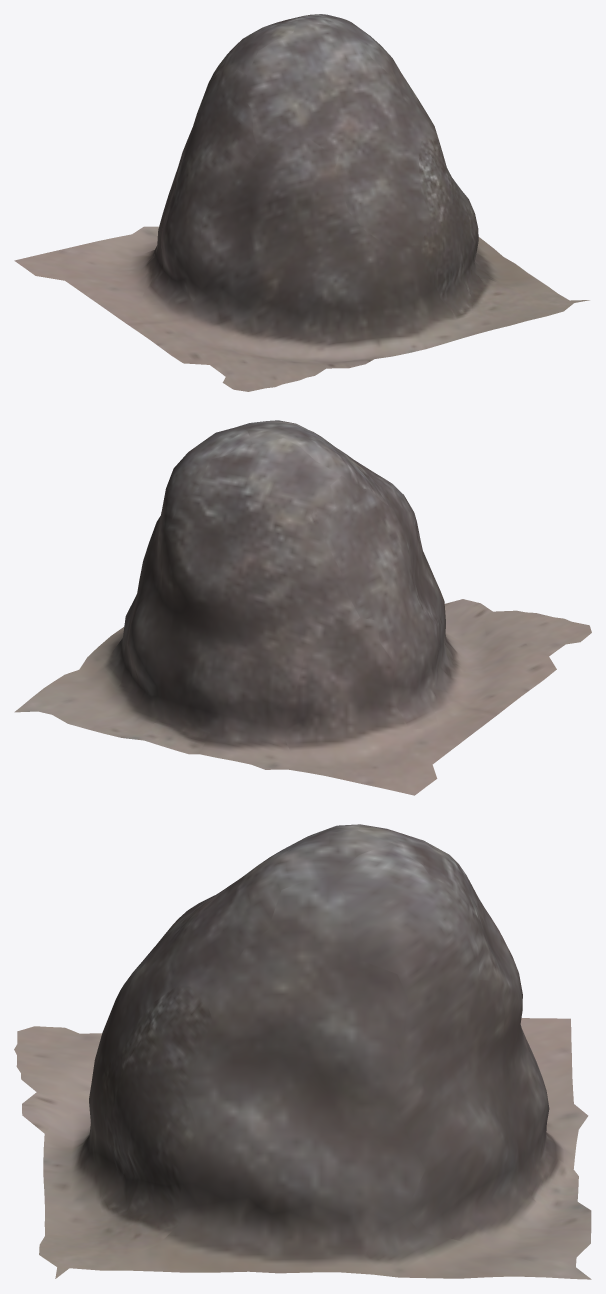
The model's file is rock_3.dae.
The picture shows the model from 3 angles, top to bottom: view 1: azimuth 30°, elevation 25°; view 2: azimuth 150°, elevation 25°; view 3: azimuth 270°, elevation 25°; orthographic projection. The views are drawn at different scales.
Parts seen in each view (by area): view 1: textured; view 2: textured; view 3: textured.
Part boxes in pixels (box(x1,y1,x2,y2)): textured: box(14, 14, 589, 391); textured: box(14, 420, 591, 795); textured: box(14, 824, 591, 1279).
Bounding box in the file's own units: 0.4437 × 0.4114 × 0.2671.
Materials: 3 (3 with a texture image).
